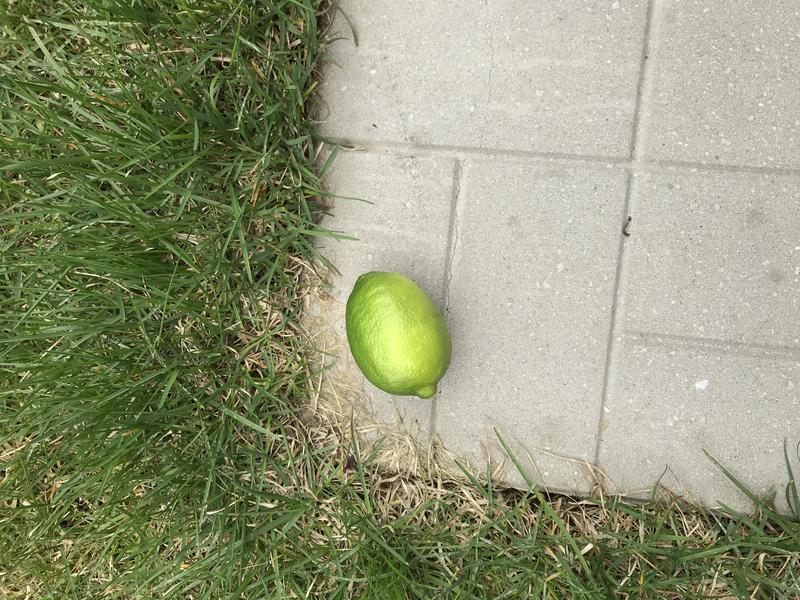lime: (336, 266, 459, 405)
